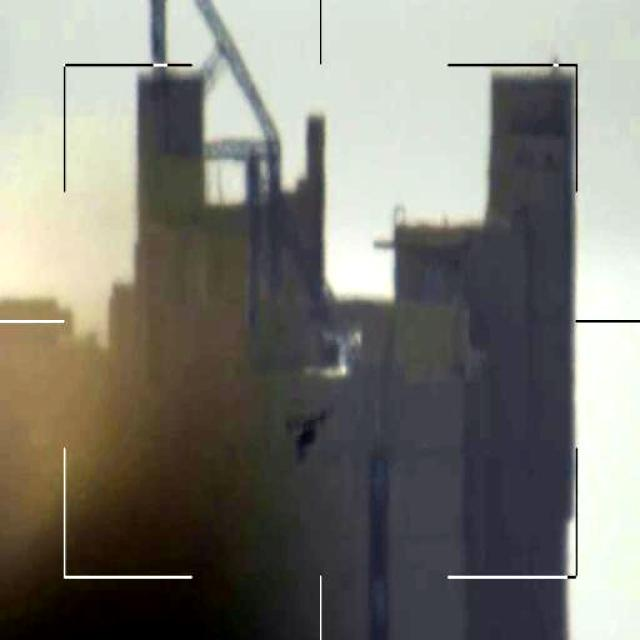bird: (281, 395, 336, 468)
